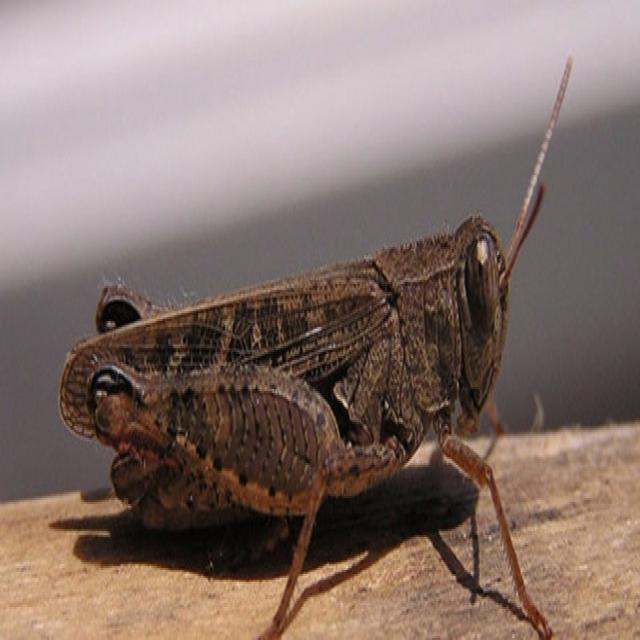ZhaMeng: (43, 162, 540, 601)
